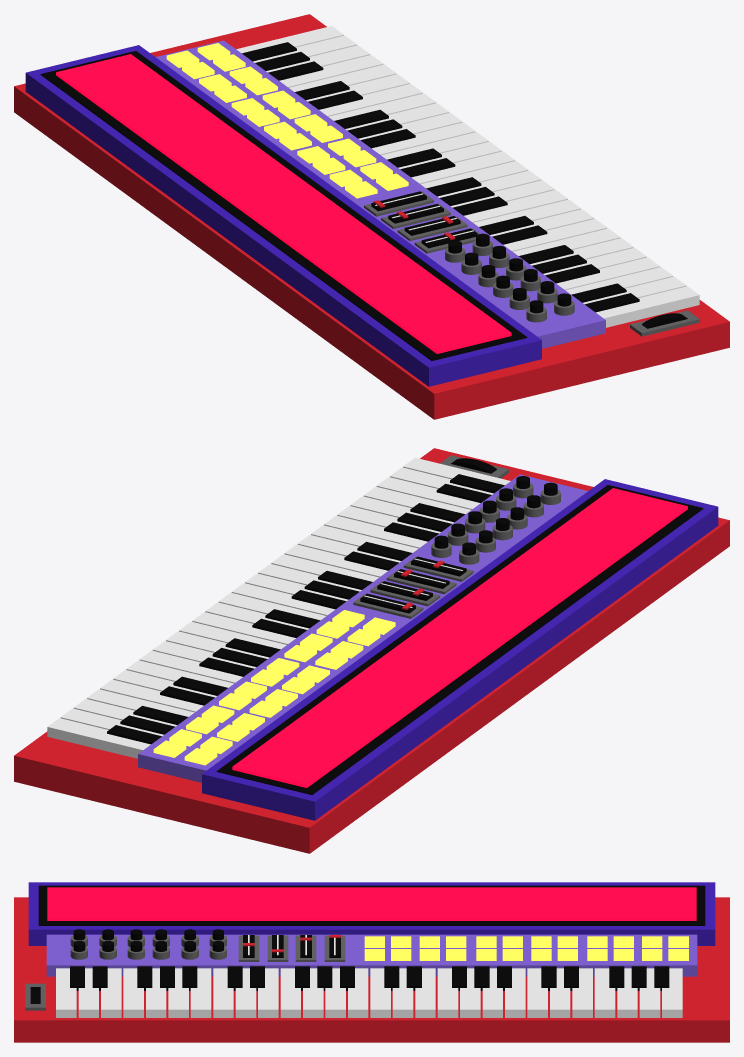
File: keyBoard.fbx
The picture shows the model from 3 angles, top to bottom: view 1: azimuth 30°, elevation 25°; view 2: azimuth 150°, elevation 25°; view 3: azimuth 270°, elevation 25°; orthographic projection. The views are drawn at different scales.
Visible parts, largest first — view 1: Cube.084, base, topControlPanel, bottomControlPanel, Cube.085, Cube.028, Cube.004, Cube.018, Cube.011, Cube.021, Cube.007, Cube.014 (+22 smaller); view 2: Cube.084, base, topControlPanel, bottomControlPanel, Cube.085, Cube.001, Cube.022, Cube.012, Cube.026, Cube.005, Cube.019, Cube.008 (+21 smaller); view 3: base, Cube.084, bottomControlPanel, topControlPanel, Cube.085, Cube.004, Cube.011, Cube.022, Cube.007, Cube.014, Cube.018, Cube.021 (+46 smaller).
Part boxes in pixels (x1,y1,x2,y2): Cube.084: (56,54,511,353); base: (14,14,729,419); topControlPanel: (25,45,541,386); bottomControlPanel: (156,40,605,348); Cube.085: (40,51,527,360); Cube.028: (596,286,699,327); Cube.004: (279,55,383,87); Cube.018: (464,190,567,222); Cube.011: (372,122,475,155); Cube.021: (503,219,607,251); Cube.007: (319,84,422,116); Cube.014: (411,151,515,184); Cube.084: (232,488,687,787); base: (14,448,729,853); topControlPanel: (202,479,718,820); bottomControlPanel: (138,474,587,782); Cube.085: (216,485,703,794); Cube.001: (47,718,150,758); Cube.022: (324,515,427,548); Cube.012: (192,612,295,644); Cube.026: (376,477,480,509); Cube.005: (100,679,203,712); Cube.019: (284,544,387,577); Cube.008: (139,650,242,683); base: (14,897,729,1042); Cube.084: (47,887,696,920); bottomControlPanel: (46,934,697,976); topControlPanel: (28,882,715,945); Cube.085: (38,885,705,925); Cube.004: (594,968,615,1017); Cube.011: (437,968,458,1017); Cube.022: (190,968,211,1017); Cube.007: (527,968,547,1017); Cube.014: (370,968,390,1017); Cube.018: (280,968,300,1017); Cube.021: (213,968,233,1017).
Bounding box in the file's own units: 200 × 35.11 × 492.
